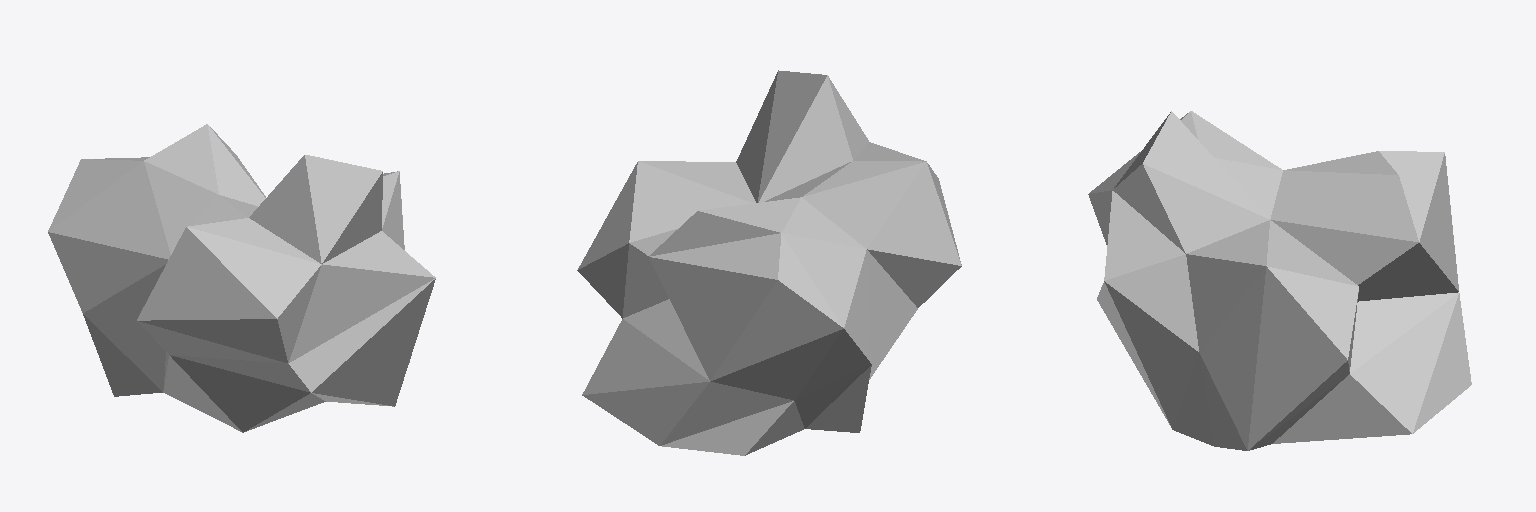
File: explode.obj
3 renders of one model, left to right at view 1: azimuth 30°, elevation 25°; view 2: azimuth 150°, elevation 25°; view 3: azimuth 270°, elevation 25°, orthographic.
Visible parts, largest first — view 1: Cube; view 2: Cube; view 3: Cube.
Boxes of the visible parts, box(x1,y1,x2,y2) form: Cube: box(48, 124, 435, 432); Cube: box(577, 70, 961, 455); Cube: box(1088, 111, 1471, 450).
Bounding box in the file's own units: 8.78 × 7.63 × 9.31.